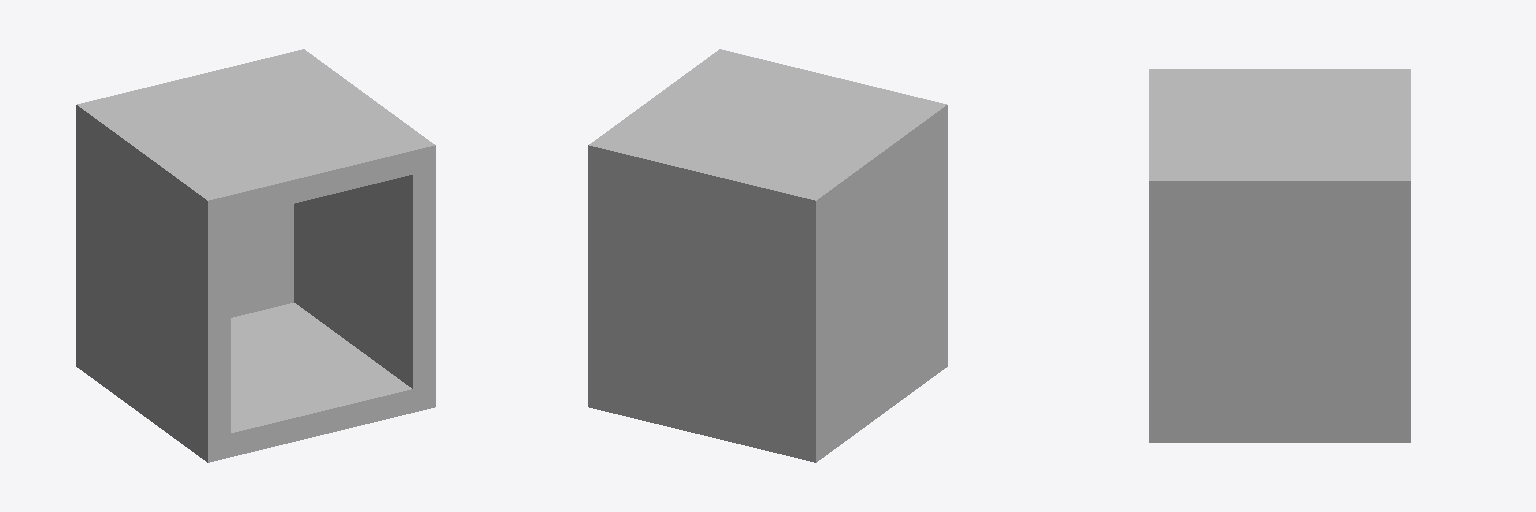
Rendered from wallSet_11.obj.
3 renders of one model, left to right at view 1: azimuth 30°, elevation 25°; view 2: azimuth 150°, elevation 25°; view 3: azimuth 270°, elevation 25°, orthographic.
Visible parts, largest first — view 1: wallSet_11_Cube.026; view 2: wallSet_11_Cube.026; view 3: wallSet_11_Cube.026.
Part boxes in pixels (x1,y1,x2,y2): wallSet_11_Cube.026: (76,49,435,462); wallSet_11_Cube.026: (588,49,947,462); wallSet_11_Cube.026: (1149,69,1410,442).
Size of the model in its own units: 2 by 2.2 by 2.